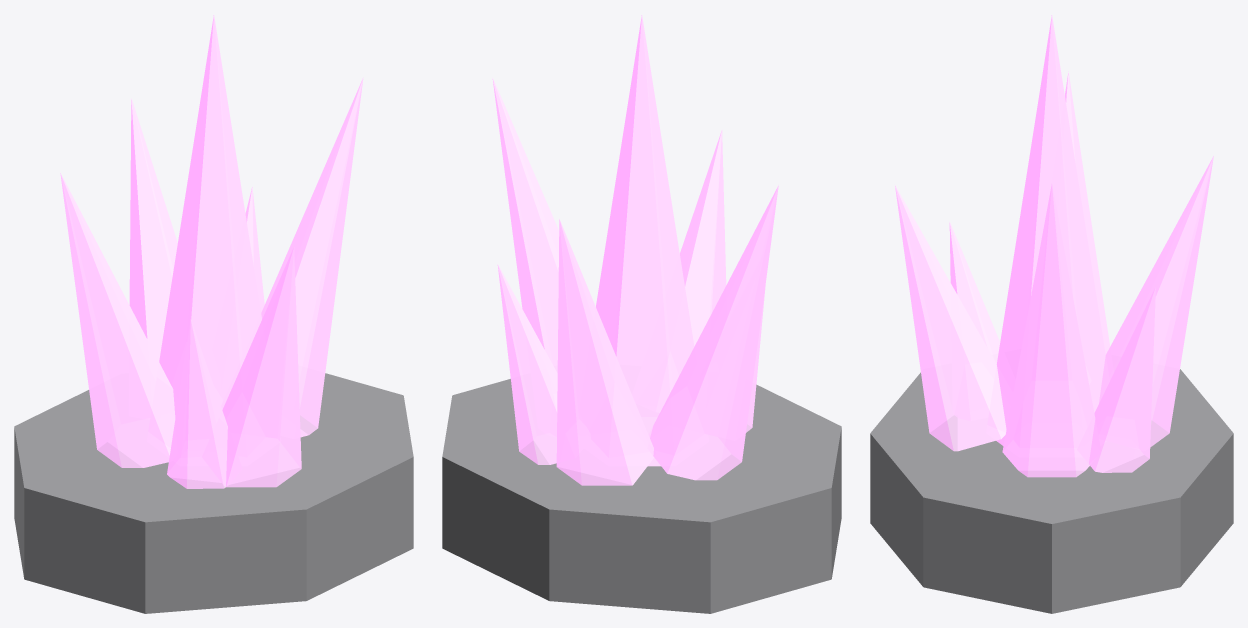
Rendered from std_geode.glb.
3 renders of one model, left to right at view 1: azimuth 30°, elevation 25°; view 2: azimuth 150°, elevation 25°; view 3: azimuth 270°, elevation 25°, orthographic.
Parts seen in each view (by area): view 1: std_geode; view 2: std_geode; view 3: std_geode.
Part boxes in pixels (x1=…): std_geode: x1=14, y1=15, x2=413, y2=613; std_geode: x1=442, y1=15, x2=841, y2=613; std_geode: x1=870, y1=15, x2=1233, y2=613.
Bounding box in the file's own units: 0.26 × 0.34 × 0.22.
